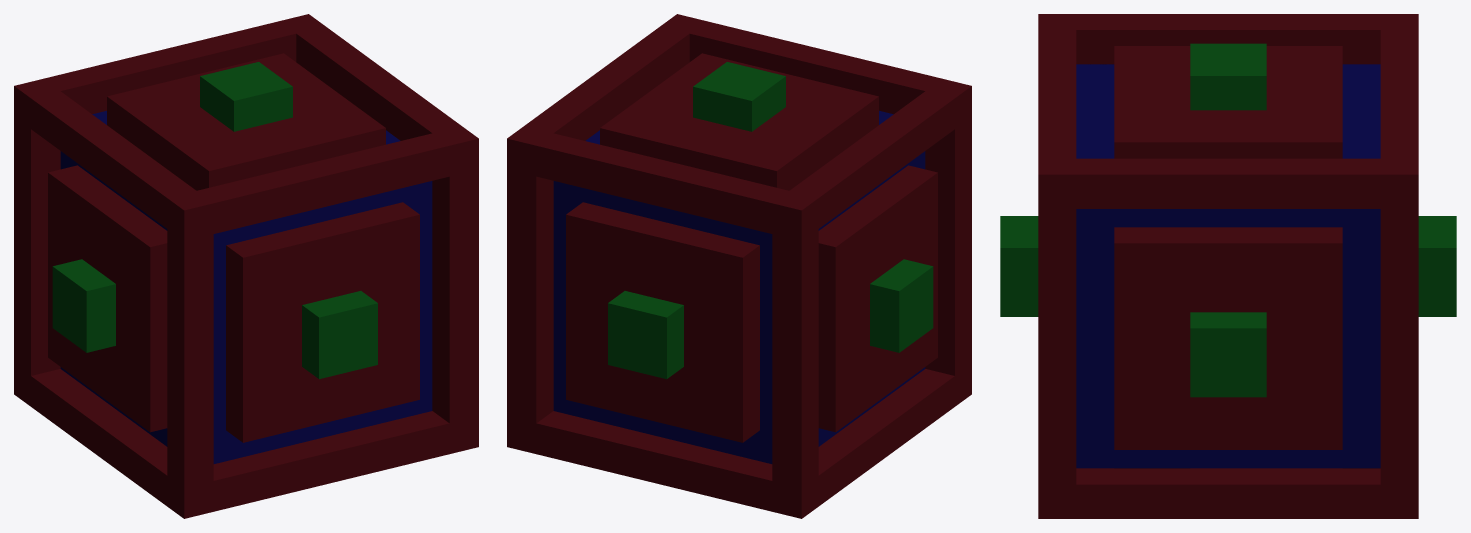
The model's file is PerkCube1.fbx.
The picture shows the model from 3 angles, left to right: view 1: azimuth 30°, elevation 25°; view 2: azimuth 150°, elevation 25°; view 3: azimuth 270°, elevation 25°; orthographic projection. The views are drawn at different scales.
Parts seen in each view (by area): view 1: PerkCube1_LOD0; view 2: PerkCube1_LOD0; view 3: PerkCube1_LOD0.
Boxes of the visible parts, box(x1,y1,x2,y2) form: PerkCube1_LOD0: box(14, 14, 478, 518); PerkCube1_LOD0: box(507, 14, 971, 518); PerkCube1_LOD0: box(1000, 14, 1456, 518).
Size of what is drawn, in the model's own units: 0.3 by 0.3 by 0.3.
